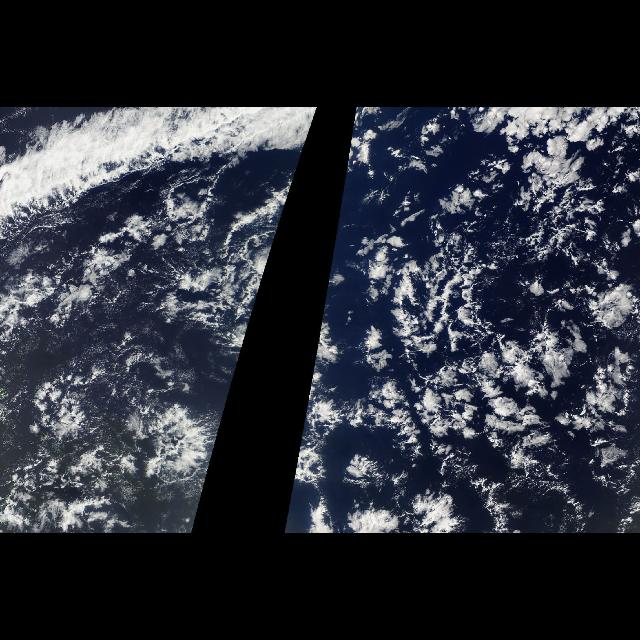Fish: (1, 108, 320, 208)
Flower: (283, 109, 639, 533), (1, 202, 288, 534)
